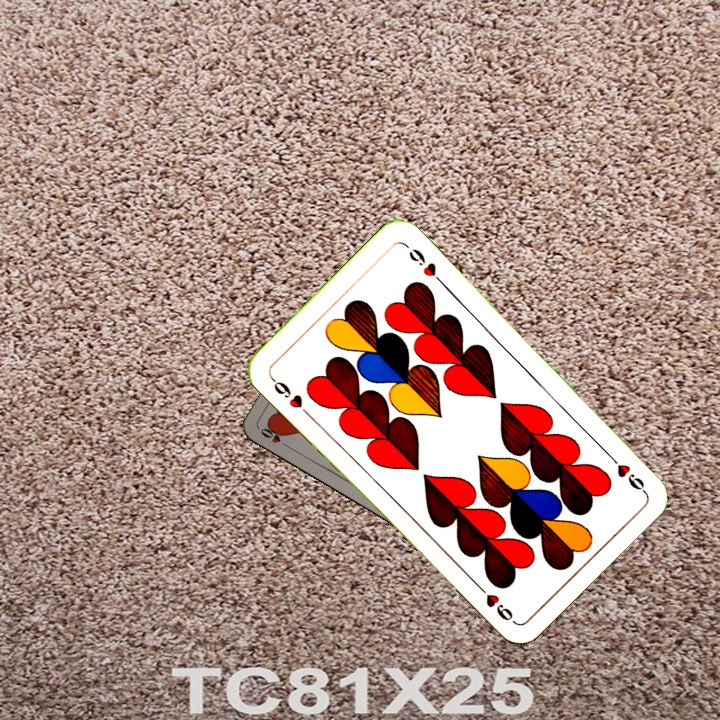H9: (602, 447, 648, 495), (266, 372, 312, 419)
HO: (256, 423, 293, 450)
